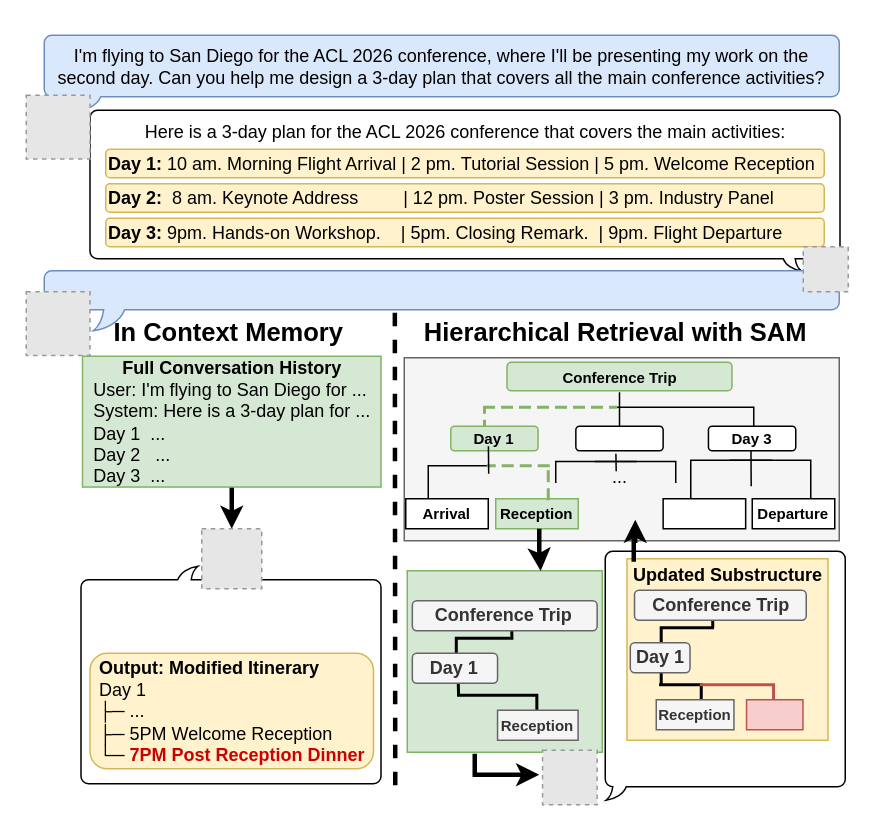
Image size: 875x833. Some labels were removed from this diagram. Grey dashed boxes stand in for pictures. Each missing label, with the box of its shape:
Add a reservation for a nice dinner after the Opening Party for 7 pm: (43, 269, 839, 331)
Day 2: (574, 425, 663, 451)
Dinner: (745, 698, 803, 730)
I have add the Dinner for 7 Pm on Day 1 after Reception: (604, 550, 845, 800)
I have add the Dinner for 7 Pm on Day 1 after welcome Reception: (80, 565, 381, 784)
Substructure: (406, 569, 602, 752)
Workshop: (662, 497, 746, 529)
